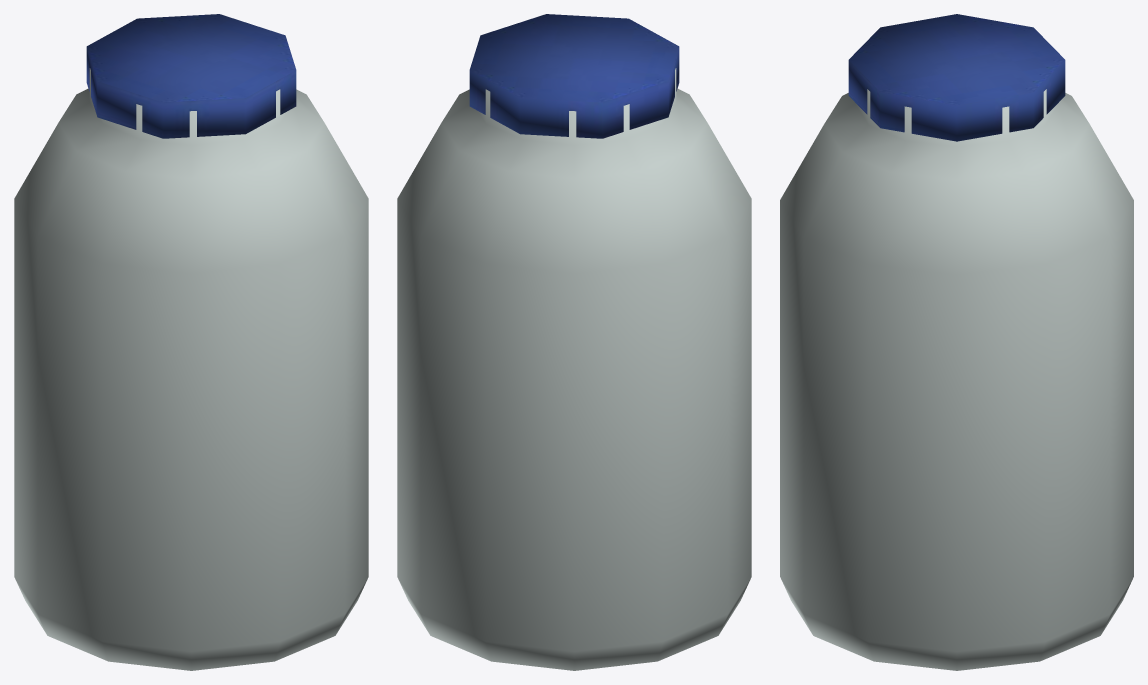
The model's file is jar_3l_lod1_web.glb.
3 views of the same model, side by side, from view 1: azimuth 30°, elevation 25°; view 2: azimuth 150°, elevation 25°; view 3: azimuth 270°, elevation 25° (orthographic).
Parts seen in each view (by area): view 1: Glass_Jar3L, Jar3L_Lid; view 2: Glass_Jar3L, Jar3L_Lid; view 3: Glass_Jar3L, Jar3L_Lid.
Part boxes in pixels (bbox=[...]): Glass_Jar3L: bbox=[14, 68, 368, 670]; Jar3L_Lid: bbox=[86, 14, 296, 138]; Glass_Jar3L: bbox=[397, 68, 751, 670]; Jar3L_Lid: bbox=[469, 14, 679, 138]; Glass_Jar3L: bbox=[780, 89, 1133, 670]; Jar3L_Lid: bbox=[848, 14, 1065, 141].
Bounding box in the file's own units: 0.16 × 0.27 × 0.16.
2 materials, 1 textured.
